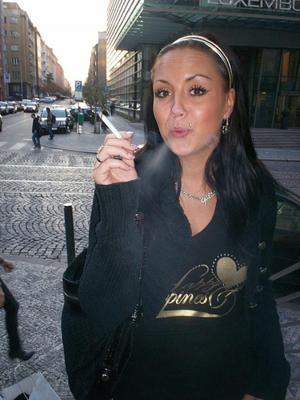person: (77, 31, 293, 400)
